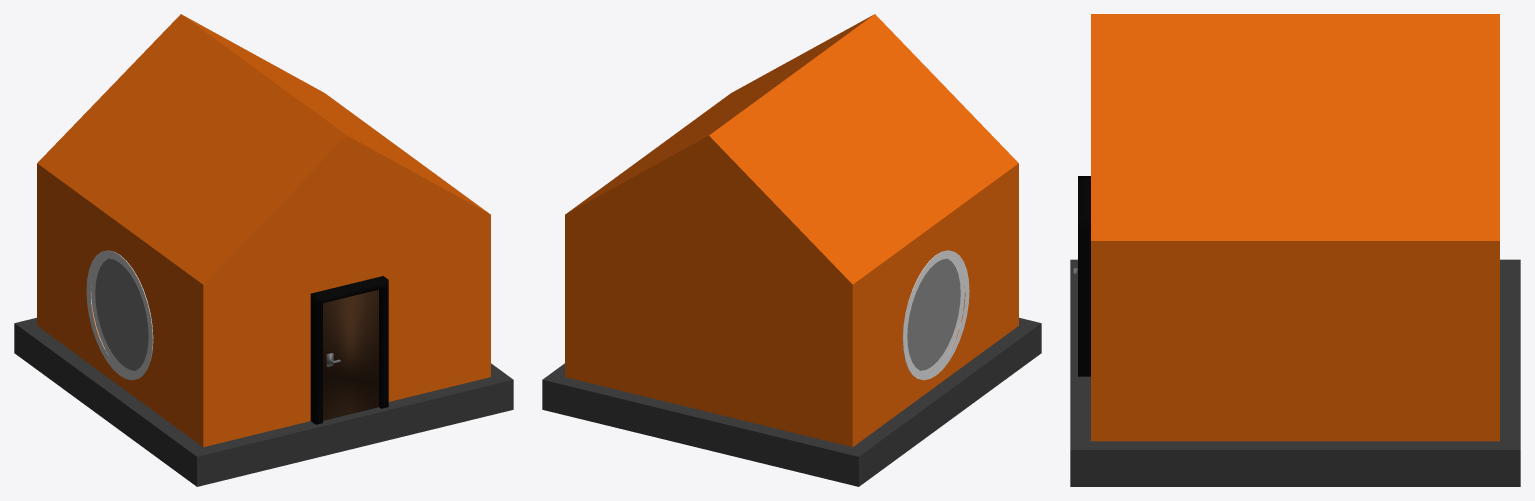
The model's file is primerPiso.fbx.
The picture shows the model from 3 angles, left to right: view 1: azimuth 30°, elevation 25°; view 2: azimuth 150°, elevation 25°; view 3: azimuth 270°, elevation 25°; orthographic projection. The views are drawn at different scales.
Visible parts, largest first — view 1: Primer piso, Base, Puerta, cristal_1p, ventana_1p; view 2: Primer piso, Base, cristal_1p, ventana_1p; view 3: Primer piso, Base, Puerta.
Boxes of the visible parts, bbox=[...] form: Primer piso: bbox=[37, 14, 490, 447]; Base: bbox=[14, 317, 513, 486]; Puerta: bbox=[310, 276, 388, 424]; cristal_1p: bbox=[95, 258, 148, 370]; ventana_1p: bbox=[86, 250, 153, 380]; Primer piso: bbox=[565, 14, 1018, 447]; Base: bbox=[542, 317, 1041, 486]; cristal_1p: bbox=[907, 258, 960, 370]; ventana_1p: bbox=[902, 250, 969, 380]; Primer piso: bbox=[1091, 14, 1499, 441]; Base: bbox=[1070, 259, 1520, 486]; Puerta: bbox=[1073, 176, 1090, 376].
Size of the model in its own units: 550 by 510 by 550.
